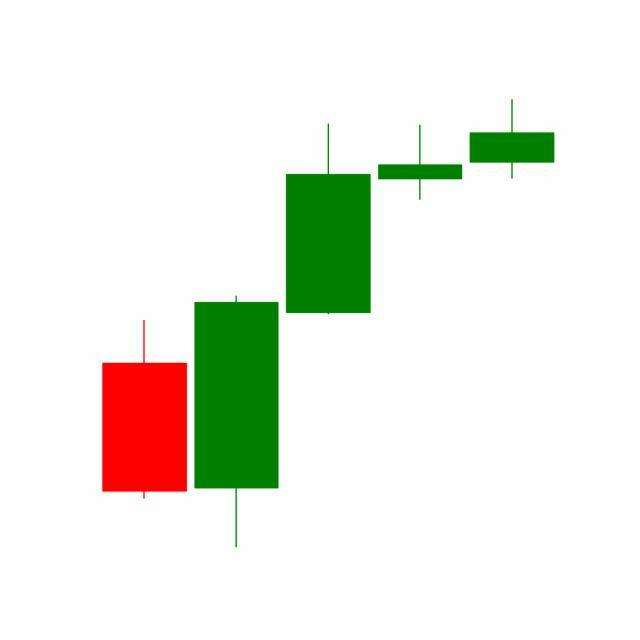Advance Block: (190, 119, 467, 548)
